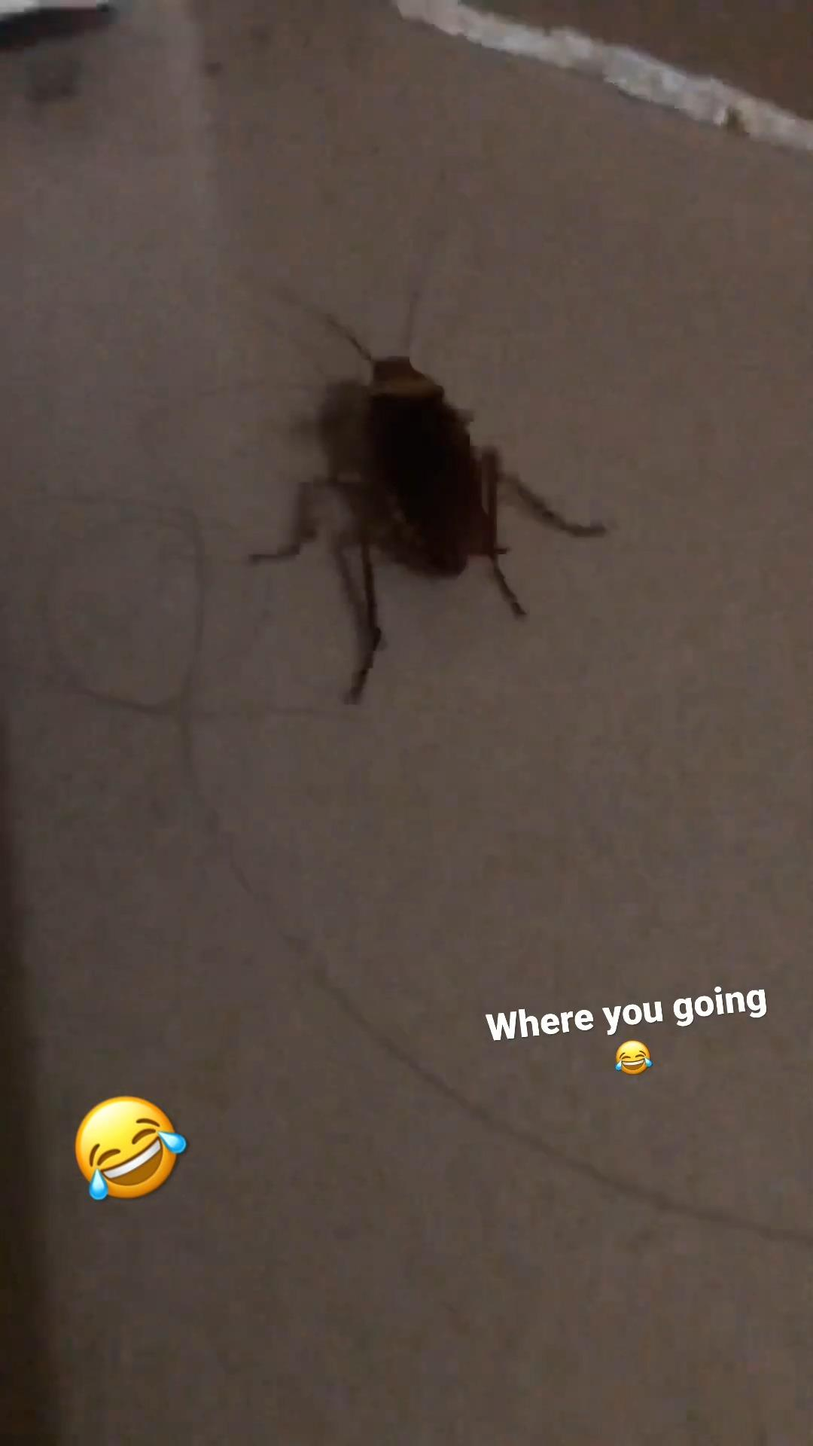cockroach: (208, 249, 685, 708)
